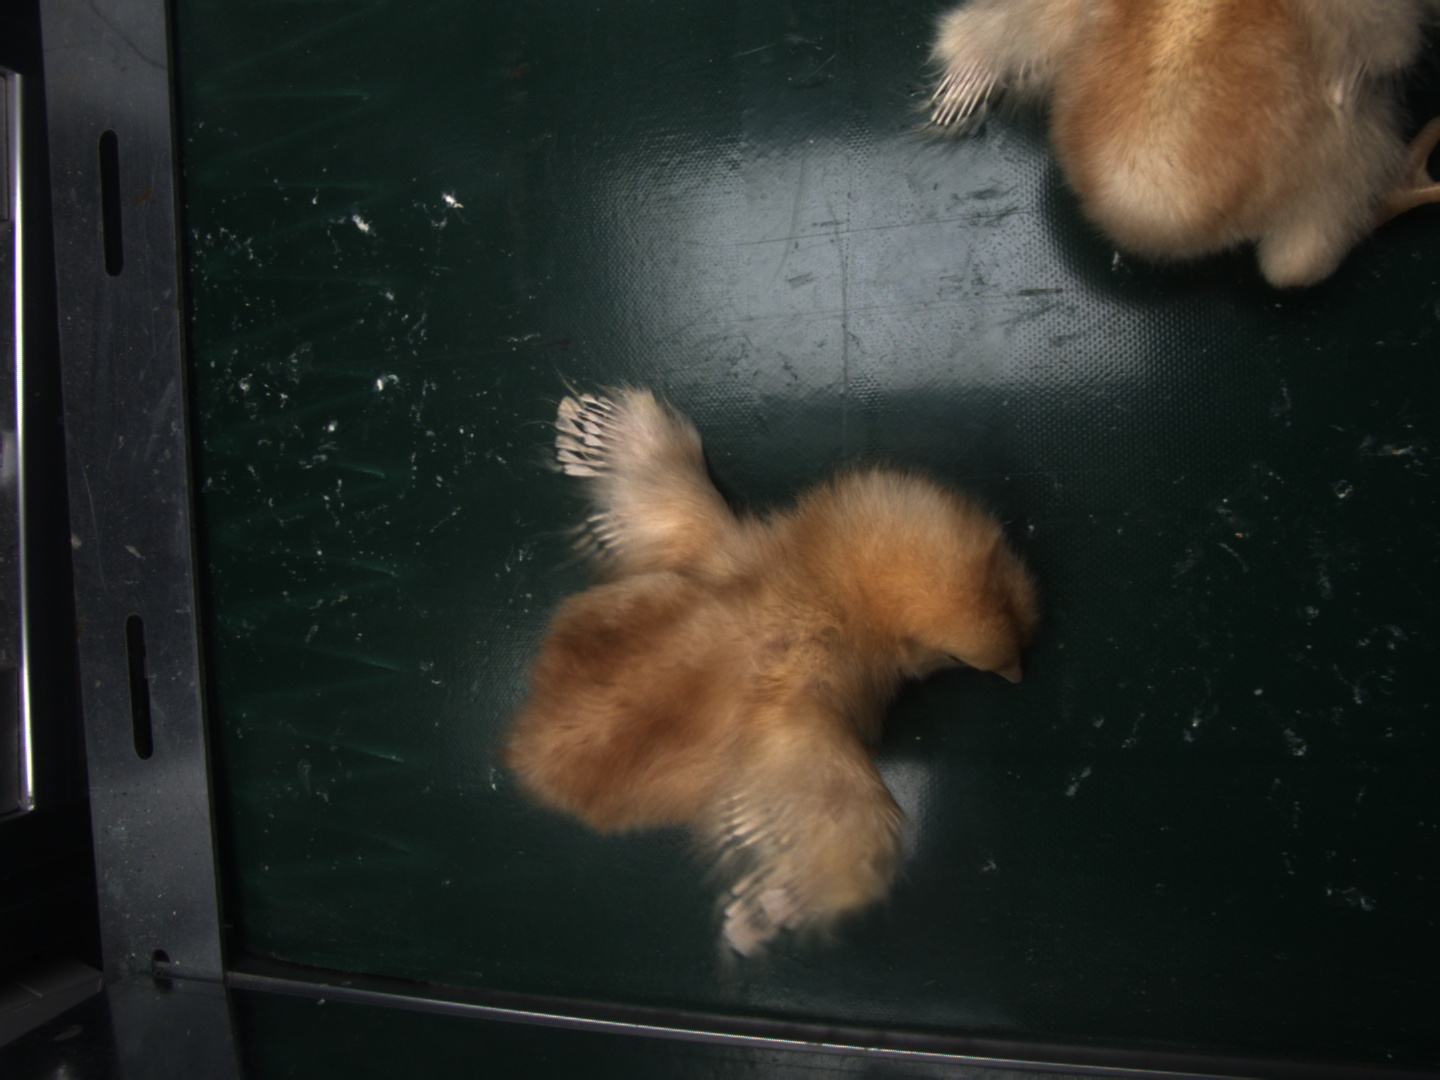female: (556, 393, 626, 476)
